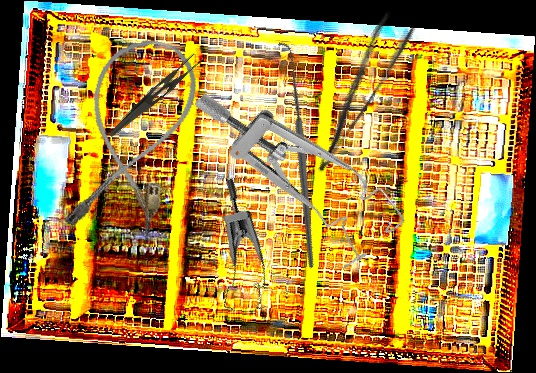Cannula: (57, 28, 207, 248)
Dressing Forceps: (292, 10, 419, 176), (107, 44, 209, 148)
Hook Surgical: (198, 41, 395, 270)
Speculum: (190, 43, 410, 284), (175, 177, 291, 324)
